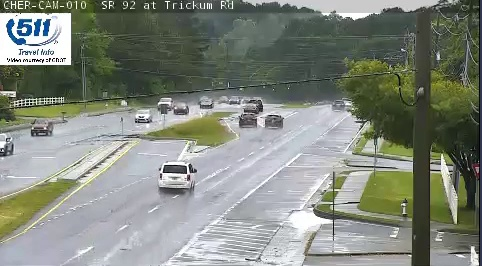car: (159, 162, 195, 188), (264, 114, 283, 128), (239, 113, 257, 127)
